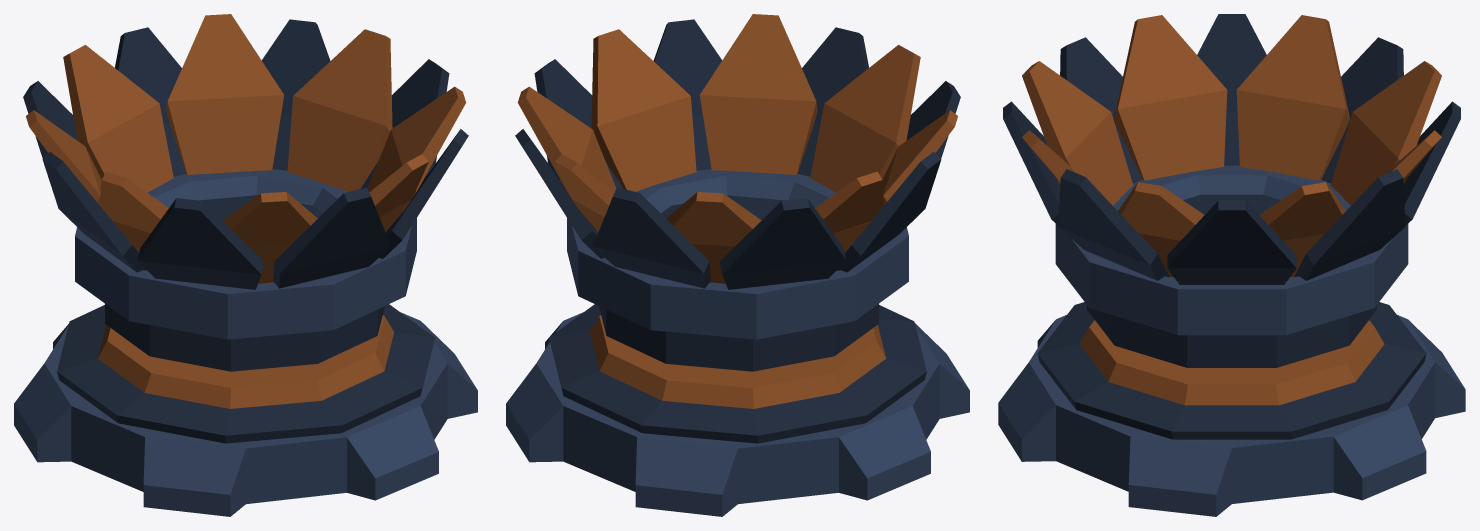
Rendered from hologram_pedestal.glb.
3 renders of one model, left to right at view 1: azimuth 30°, elevation 25°; view 2: azimuth 150°, elevation 25°; view 3: azimuth 270°, elevation 25°, orthographic.
Visible parts, largest first — view 1: Props_Teleporter_1; view 2: Props_Teleporter_1; view 3: Props_Teleporter_1.
Part boxes in pixels (box(x1,y1,x2,y2)): Props_Teleporter_1: box(14, 14, 477, 516); Props_Teleporter_1: box(506, 14, 969, 516); Props_Teleporter_1: box(998, 14, 1465, 516).
Bounding box in the file's own units: 0.88 × 0.6601 × 0.88.
